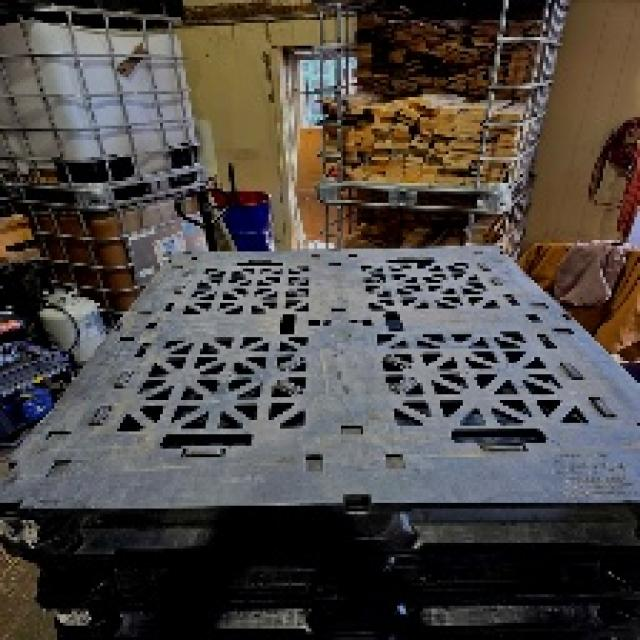igps: (0, 232, 640, 568), (12, 518, 640, 616), (23, 591, 640, 640)
